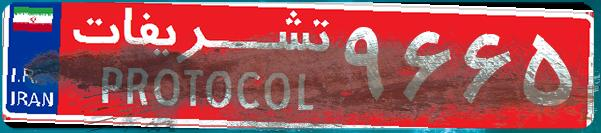5: (520, 20, 580, 115)
6: (400, 20, 460, 115), (460, 20, 520, 115)
9: (340, 20, 400, 115)
تشریفات: (60, 8, 340, 125)
